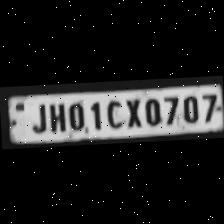0: (64, 99, 86, 131), (178, 92, 200, 124), (140, 94, 162, 125)
1: (85, 97, 103, 130)
7: (199, 91, 221, 123), (160, 92, 180, 125)
C: (102, 97, 124, 129)
H: (45, 100, 65, 132)
J: (25, 100, 47, 134)
X: (120, 96, 142, 128)
